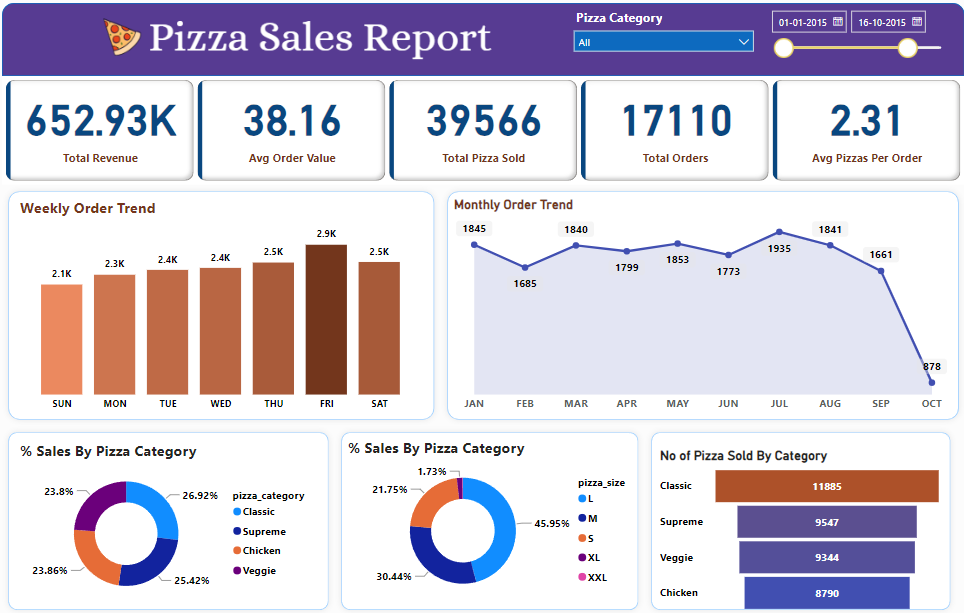

Layout of this report page (visuals, bound fields, positions):
{"tool":"powerbi","page":{"name":"HOME","canvas":[1500,800],"ordinal":0},"visuals":[{"type":"cardVisual","fields":{"Data":["pizza_sale.Total Revenue","pizza_sale.AVG Order Value","pizza_sale.Total Pizza Sold","pizza_sale.Total Orders","pizza_sale.Avg Pizzas Per Order"]},"box":[250.5,104.8,1240.5,140.3],"z":0},{"type":"shape","box":[250.5,10.9,1240.5,94],"z":1000},{"type":"shape","box":[250.5,245.1,565.1,310.5],"z":2000},{"type":"clusteredColumnChart","title":"Weekly  Order Trend ","fields":{"Category":["pizza_sale.Order Day"],"Y":["pizza_sale.Total Orders"]},"box":[268.2,260.1,528.3,284.6],"z":3000},{"type":"shape","box":[815.6,245.1,675.4,310.5],"z":4000},{"type":"areaChart","title":"Monthly Order Trend","fields":{"Category":["pizza_sale.Order Month"],"Y":["pizza_sale.Total Orders"]},"box":[827.9,260.1,652.2,284.6],"z":5000},{"type":"shape","box":[250.5,555.6,428.9,245.1],"z":6000},{"type":"shape","box":[679.5,555.6,399,245.1],"z":7000},{"type":"shape","box":[1078.4,555.6,401.7,245.1],"z":8000},{"type":"donutChart","title":"% Sales By Pizza Category ","fields":{"Category":["pizza_sale.pizza_category","pizza_sale.pizza_size"],"Y":["pizza_sale.Total Revenue"]},"box":[268.2,573.3,399,216.5],"z":9000},{"type":"donutChart","title":"% Sales By Pizza Category ","fields":{"Y":["pizza_sale.Total Revenue"],"Category":["pizza_sale.pizza_size"]},"box":[690.4,569.2,389.4,216.5],"z":10000},{"type":"funnel","title":"No of Pizza Sold By Category ","fields":{"Category":["pizza_sale.pizza_category"],"Y":["pizza_sale.Total Pizza Sold"]},"box":[1092.6,583.2,374.4,216.9],"z":11000},{"type":"slicer","fields":{"Values":["pizza_sale.pizza_category"]},"box":[976.3,12.3,251.9,94],"z":12000},{"type":"slicer","fields":{"Values":["pizza_sale.order_date"]},"box":[1228.9,10.5,251.5,96.4],"z":13000},{"type":"image","box":[325.3,21.1,613,75.3],"z":13001}]}

Visuals, with their boxes on the page's 1500x800 design canvas (x1, y1, x2, y2). These are canvas units, not pixel positions in the 964x613 screenshot, which may show the page scaled, cropped or inside an application window:
cardVisual - pizza_sale.Total Revenue x pizza_sale.AVG Order Value: x1=250, y1=105, x2=1491, y2=245
shape: x1=250, y1=11, x2=1491, y2=105
shape: x1=250, y1=245, x2=816, y2=556
"Weekly  Order Trend " clusteredColumnChart: x1=268, y1=260, x2=796, y2=545
shape: x1=816, y1=245, x2=1491, y2=556
"Monthly Order Trend" areaChart: x1=828, y1=260, x2=1480, y2=545
shape: x1=250, y1=556, x2=679, y2=801
shape: x1=680, y1=556, x2=1078, y2=801
shape: x1=1078, y1=556, x2=1480, y2=801
"% Sales By Pizza Category " donutChart: x1=268, y1=573, x2=667, y2=790
"% Sales By Pizza Category " donutChart: x1=690, y1=569, x2=1080, y2=786
"No of Pizza Sold By Category " funnel: x1=1093, y1=583, x2=1467, y2=800
slicer - pizza_sale.pizza_category: x1=976, y1=12, x2=1228, y2=106
slicer - pizza_sale.order_date: x1=1229, y1=10, x2=1480, y2=107
image: x1=325, y1=21, x2=938, y2=96
